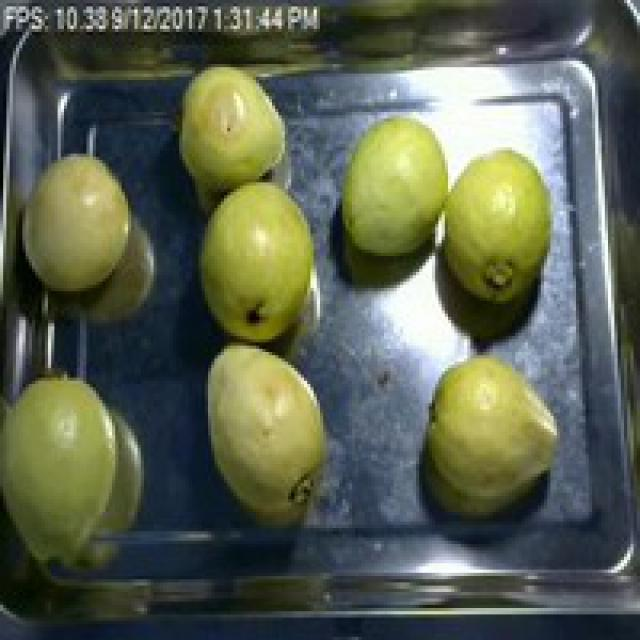Fruit: (0, 362, 157, 586), (406, 336, 576, 534), (422, 134, 573, 340), (198, 336, 342, 534), (188, 173, 329, 355), (330, 102, 464, 276), (6, 141, 144, 304), (166, 61, 301, 208)
